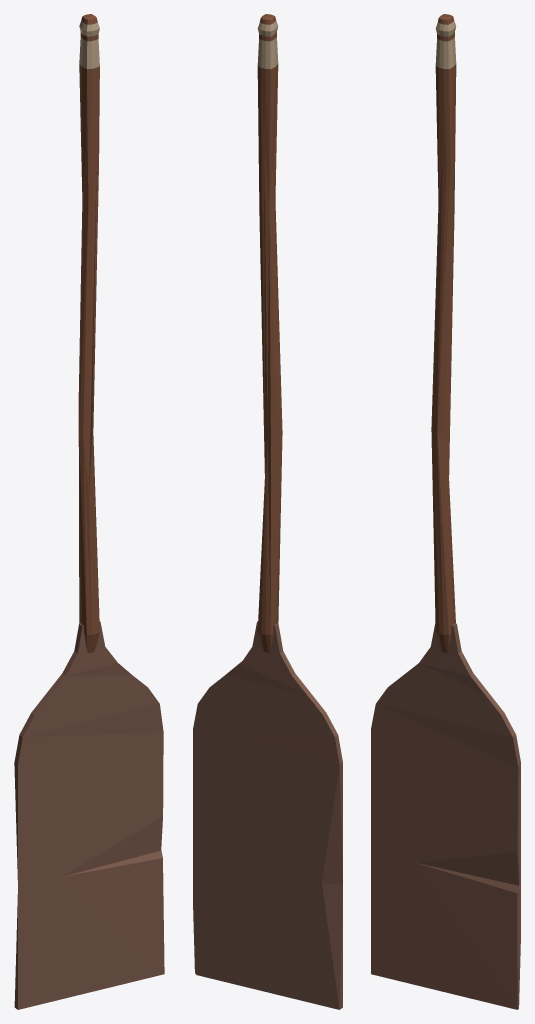
The model's file is Oar.fbx.
3 views of the same model, side by side, from view 1: azimuth 30°, elevation 25°; view 2: azimuth 150°, elevation 25°; view 3: azimuth 330°, elevation 25° (orthographic).
Parts seen in each view (by area): view 1: Oar; view 2: Oar; view 3: Oar.
Boxes of the visible parts, bbox=[...] form: Oar: bbox=[14, 14, 164, 1009]; Oar: bbox=[193, 14, 342, 1009]; Oar: bbox=[371, 14, 520, 1009].
Size of the model in its own units: 0.4464 by 2.83 by 0.0535.
